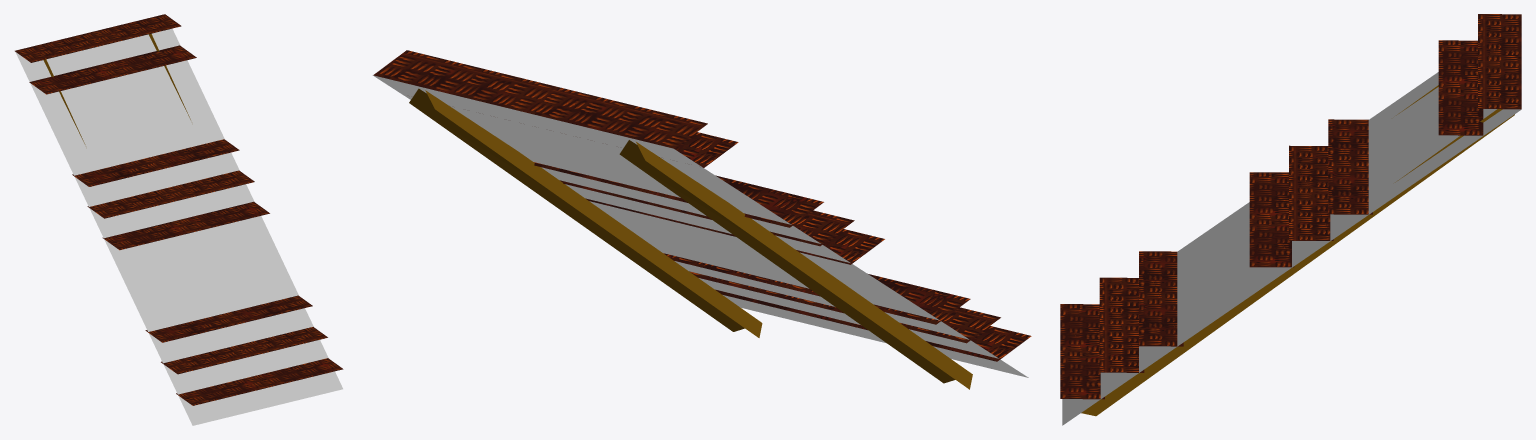
The model's file is TreppeBretter [BraunesLinoleum]_2125.glb.
The picture shows the model from 3 angles, left to right: view 1: azimuth 30°, elevation 25°; view 2: azimuth 150°, elevation 25°; view 3: azimuth 270°, elevation 25°; orthographic projection. The views are drawn at different scales.
Visible parts, largest first — view 1: pPlaneShape19, pPlaneShape17, pPlaneShape16, pPlaneShape18; view 2: pPlaneShape19, pPlaneShape18, pCylinderShape1, pCylinderShape2, pPlaneShape16, pPlaneShape17; view 3: pPlaneShape19, pPlaneShape17, pPlaneShape16, pPlaneShape18, pCylinderShape1.
Boxes of the visible parts, x1,y1,x2,y2 form: pPlaneShape19: [15, 14, 342, 425]; pPlaneShape17: [72, 139, 269, 250]; pPlaneShape16: [145, 295, 343, 405]; pPlaneShape18: [15, 14, 196, 94]; pPlaneShape19: [372, 75, 1028, 377]; pPlaneShape18: [373, 50, 738, 167]; pCylinderShape1: [409, 88, 762, 337]; pCylinderShape2: [619, 140, 972, 389]; pPlaneShape16: [663, 253, 1031, 361]; pPlaneShape17: [534, 162, 884, 264]; pPlaneShape19: [1062, 72, 1521, 425]; pPlaneShape17: [1249, 119, 1372, 267]; pPlaneShape16: [1060, 251, 1183, 399]; pPlaneShape18: [1438, 14, 1521, 135]; pCylinderShape1: [1081, 109, 1514, 416].
Size of the model in its own units: 0.2509 by 0.3891 by 0.5132.
Materials: 6 (3 with a texture image).
